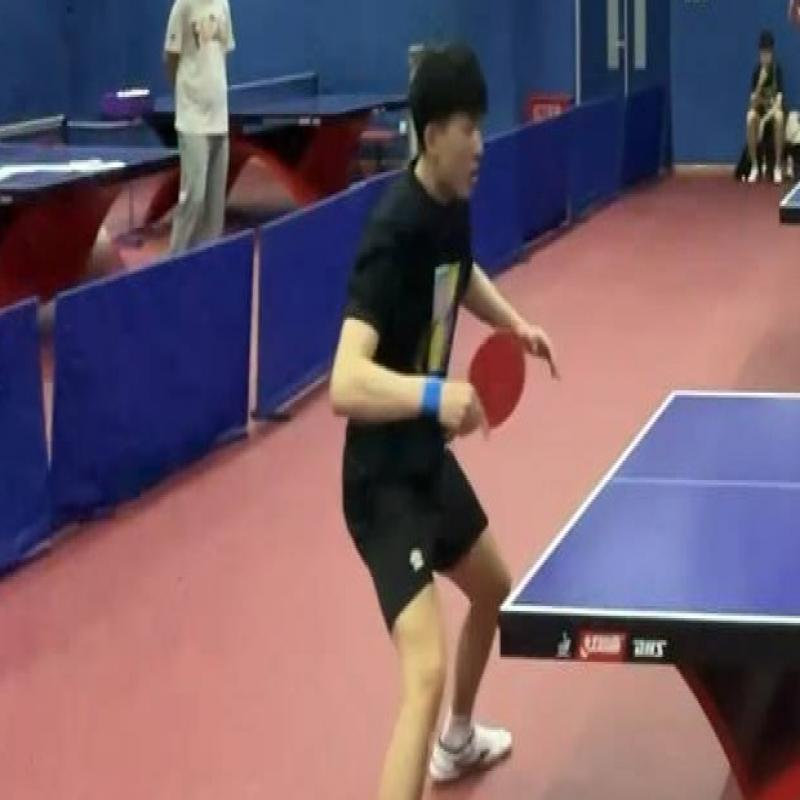bats: (461, 324, 534, 443)
